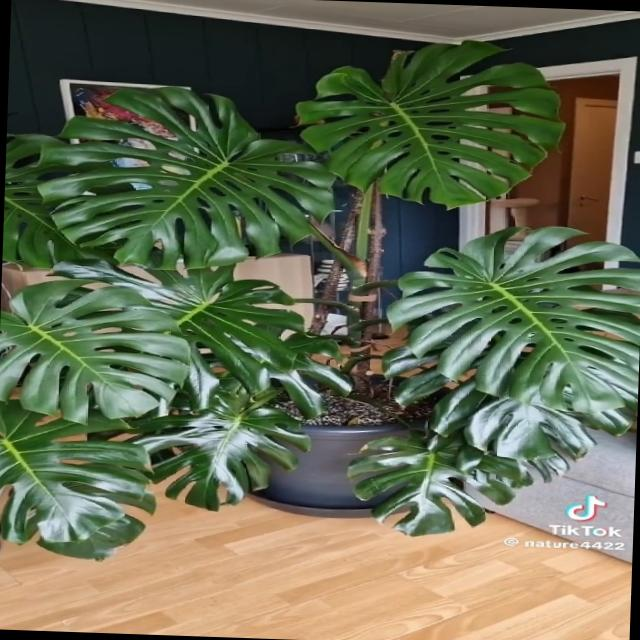roslina_zdrowa: (0, 39, 640, 559)
